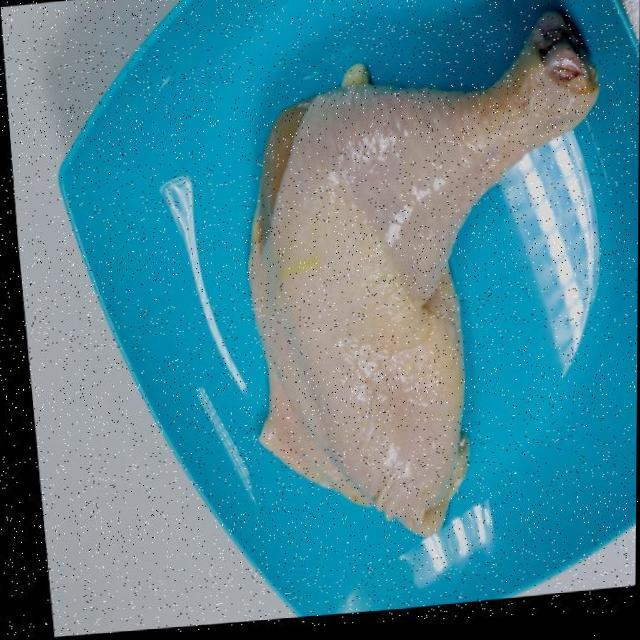quater: (254, 19, 594, 540)
